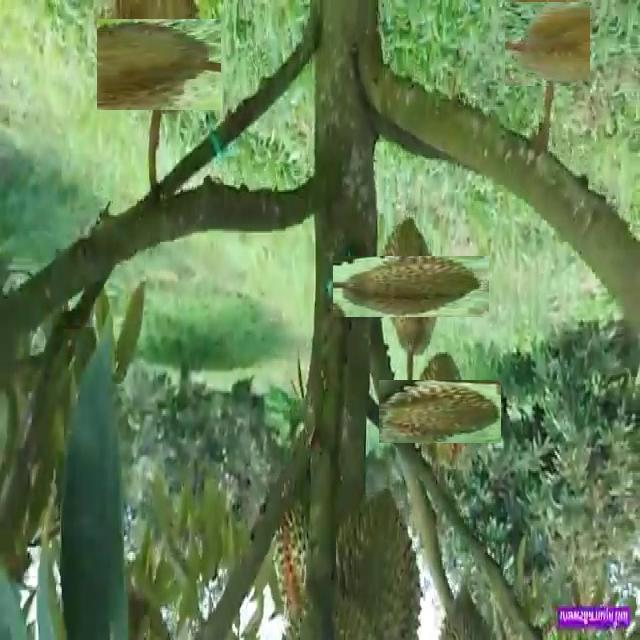durian: (332, 480, 424, 640), (357, 233, 466, 341), (104, 10, 212, 119), (393, 366, 487, 458), (505, 2, 590, 87)
